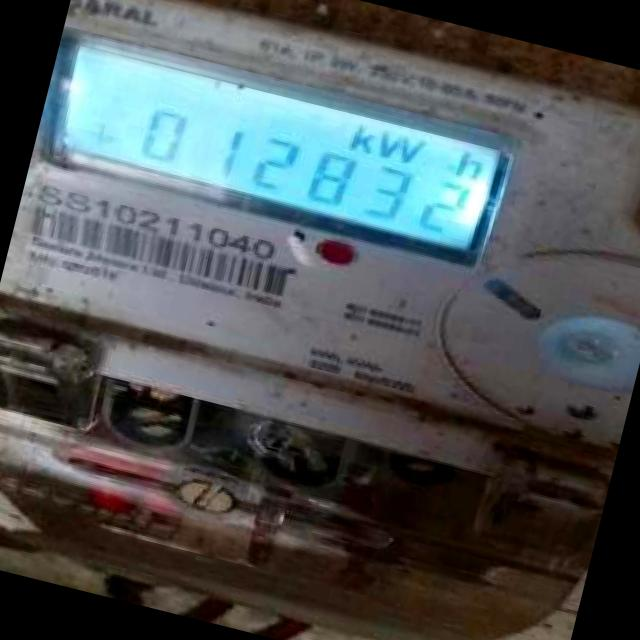LCD: (35, 23, 522, 274)
